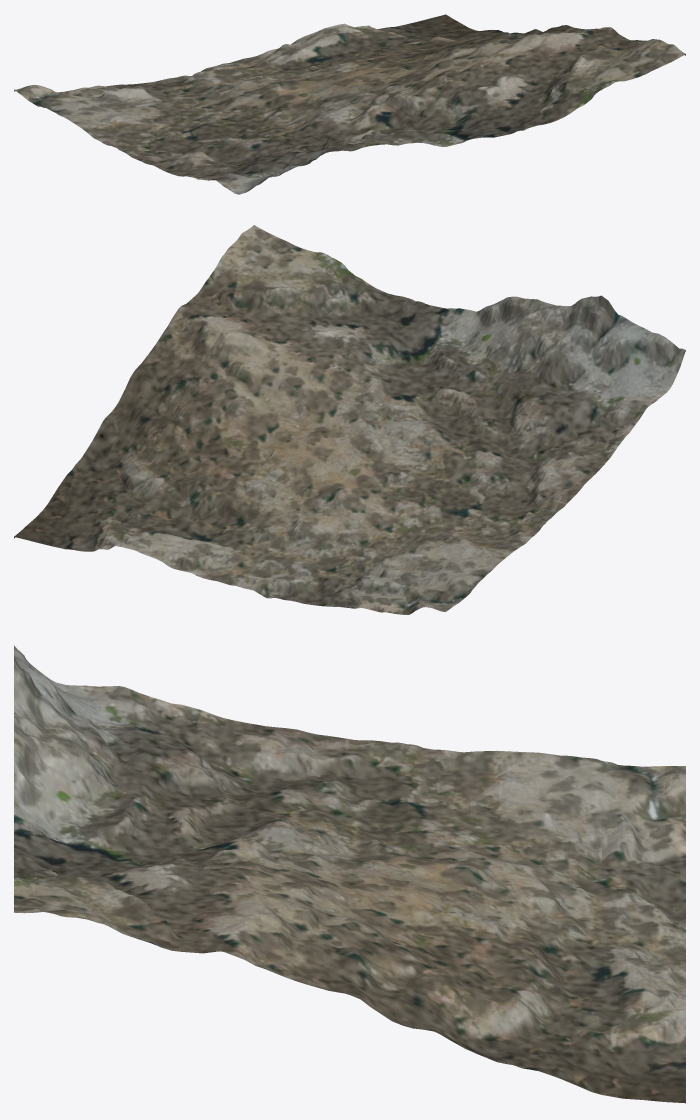
3 renders of one model, top to bottom at view 1: azimuth 30°, elevation 25°; view 2: azimuth 150°, elevation 25°; view 3: azimuth 270°, elevation 25°, orthographic. The views are drawn at different scales.
Bounding box in the file's own units: 250 × 84.33 × 241.
1 material, 1 textured.
